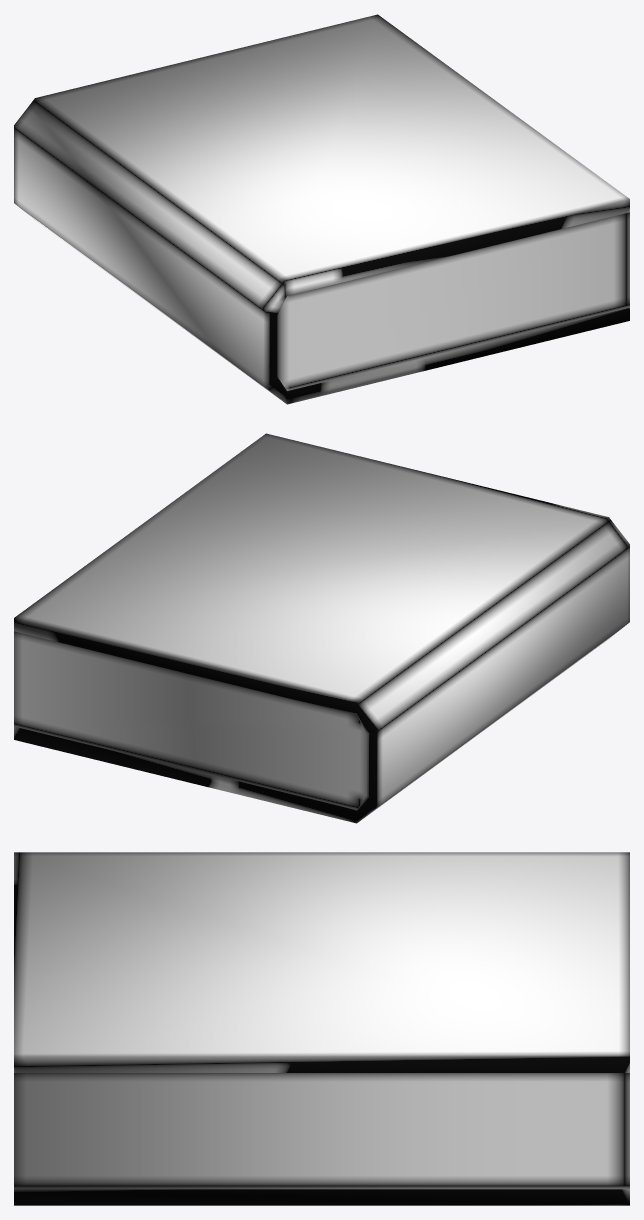
File: Book.obj
The picture shows the model from 3 angles, top to bottom: view 1: azimuth 30°, elevation 25°; view 2: azimuth 150°, elevation 25°; view 3: azimuth 270°, elevation 25°; orthographic projection. The views are drawn at different scales.
Parts seen in each view (by area): view 1: Cube1; view 2: Cube1; view 3: Cube1.
Part boxes in pixels (x1,y1,x2,y2): Cube1: (14, 14, 629, 404); Cube1: (14, 433, 629, 823); Cube1: (14, 852, 629, 1205).
Bounding box in the file's own units: 2 × 0.64 × 2.4.
Materials: 1 (1 with a texture image).
